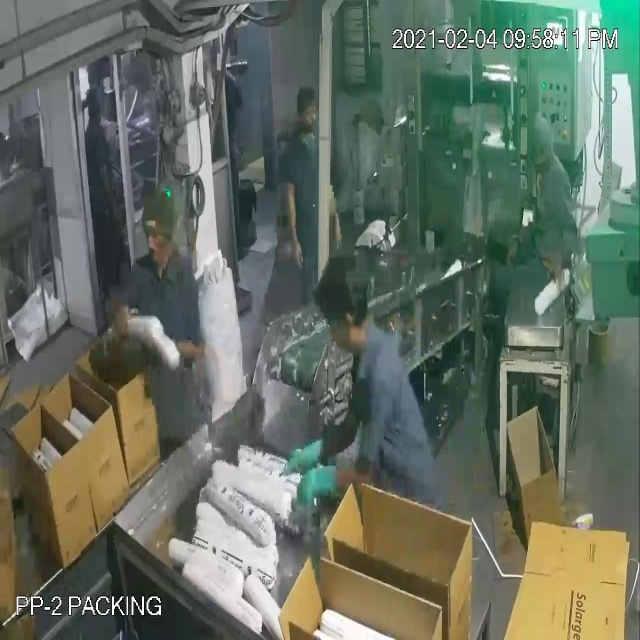Guantes: (273, 422, 364, 476), (298, 465, 376, 509)
Sin_guantes: (148, 316, 211, 376), (282, 163, 308, 275), (109, 292, 134, 362)
